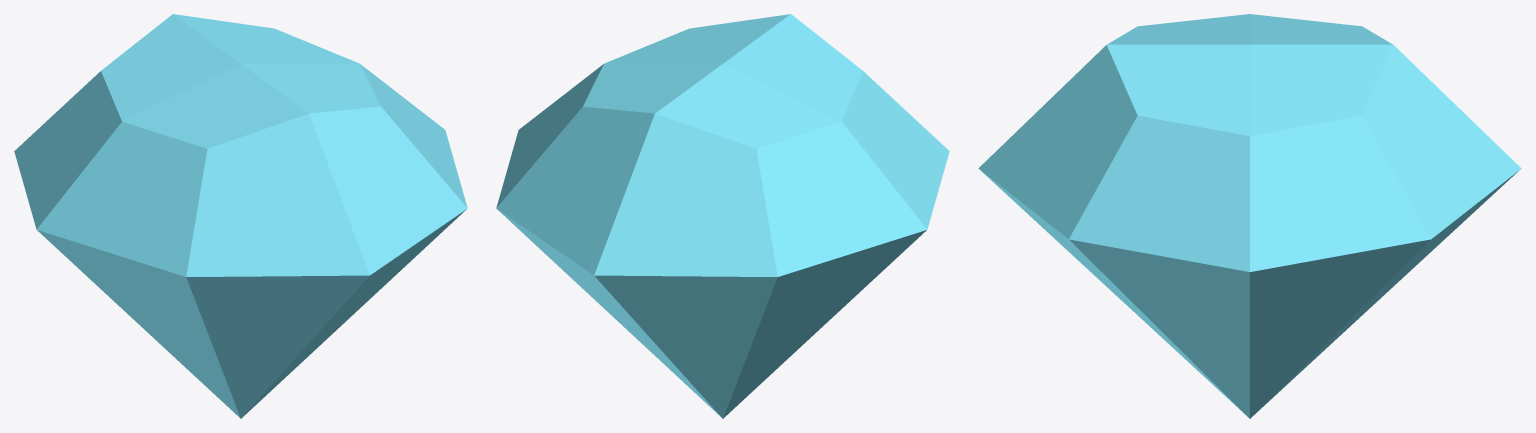
File: Diamond.fbx
The picture shows the model from 3 angles, left to right: view 1: azimuth 30°, elevation 25°; view 2: azimuth 150°, elevation 25°; view 3: azimuth 270°, elevation 25°; orthographic projection. The views are drawn at different scales.
Parts seen in each view (by area): view 1: Diamond; view 2: Diamond; view 3: Diamond.
Part boxes in pixels (x1,y1,x2,y2): Diamond: (14,14,467,418); Diamond: (496,14,949,418); Diamond: (978,14,1521,418).
Bounding box in the file's own units: 105 × 87.49 × 115.
